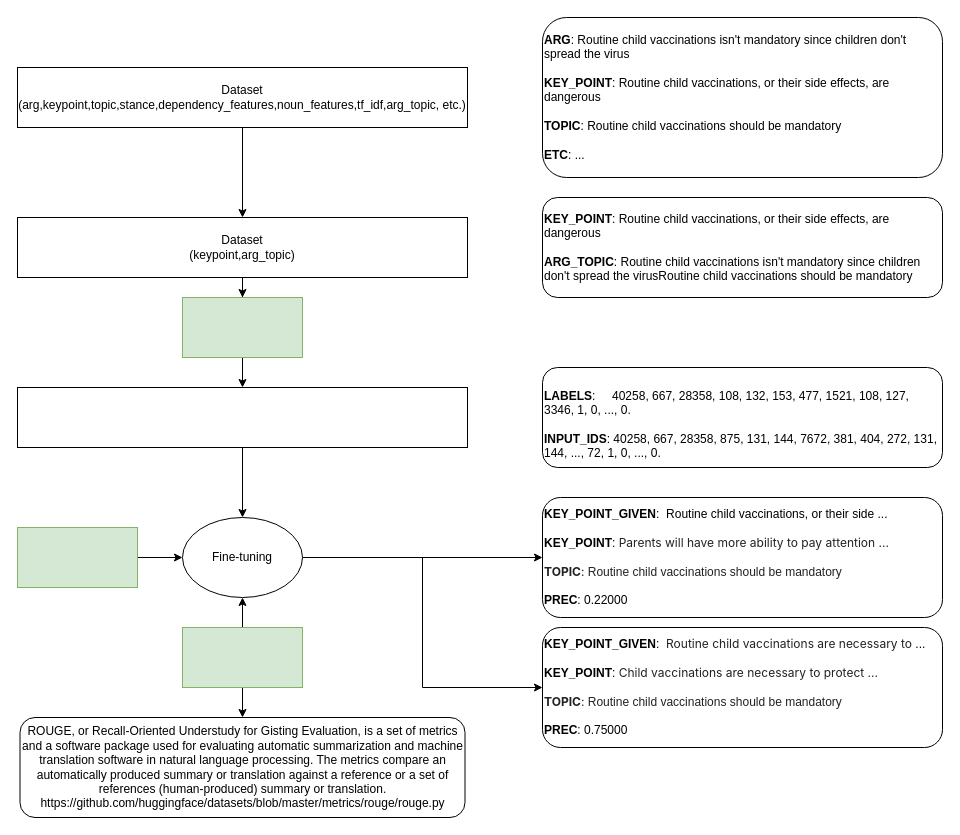
This 960x835 diagram has some shape labels left out. The shapes that lost their labels are listed below. From the top down, each one's centre as x and y in pixels, then its label:
the point at 242,327: Pegasus Tokenizer (pretrained)
the point at 242,417: Dataset (labels,input_ids)
the point at 77,557: Pegasus Seq2Seq (pretrained)
the point at 242,657: ROUGE Metric
